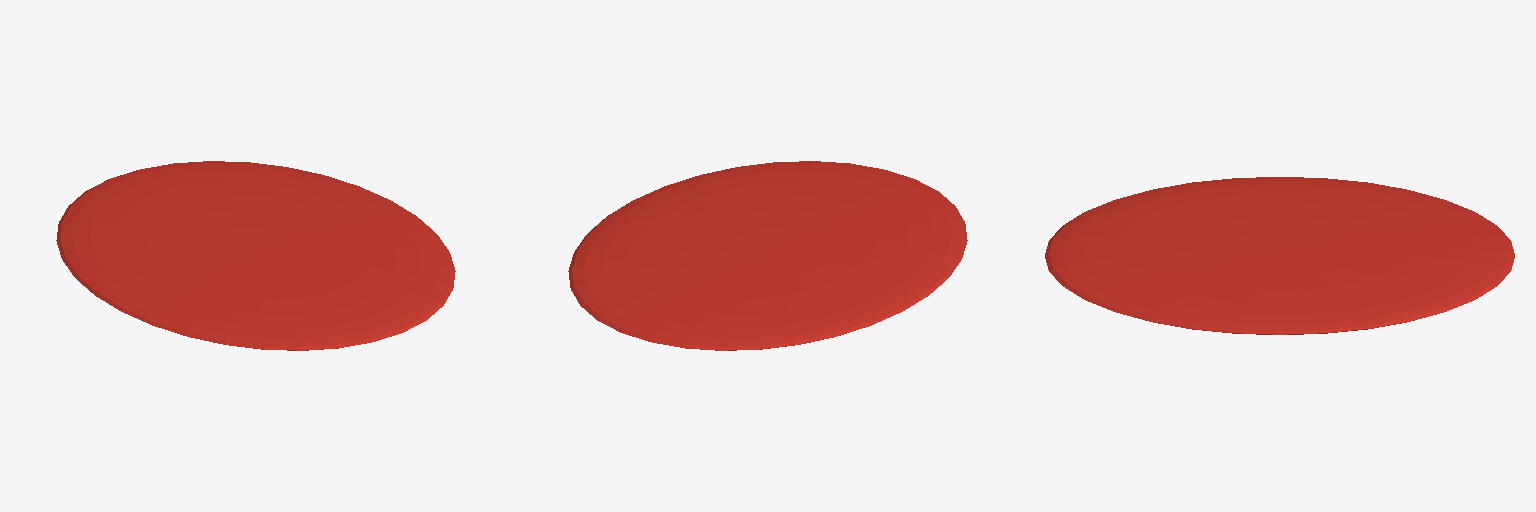
Rendered from dusmanbolge.obj.
3 renders of one model, left to right at view 1: azimuth 30°, elevation 25°; view 2: azimuth 150°, elevation 25°; view 3: azimuth 270°, elevation 25°, orthographic.
Parts seen in each view (by area): view 1: Sphere; view 2: Sphere; view 3: Sphere.
Part boxes in pixels (left/top/right/bottom): Sphere: left=56, top=161, right=455, bottom=350; Sphere: left=568, top=161, right=967, bottom=350; Sphere: left=1045, top=177, right=1514, bottom=334.
Bounding box in the file's own units: 1.09 × 0.0682 × 1.37.